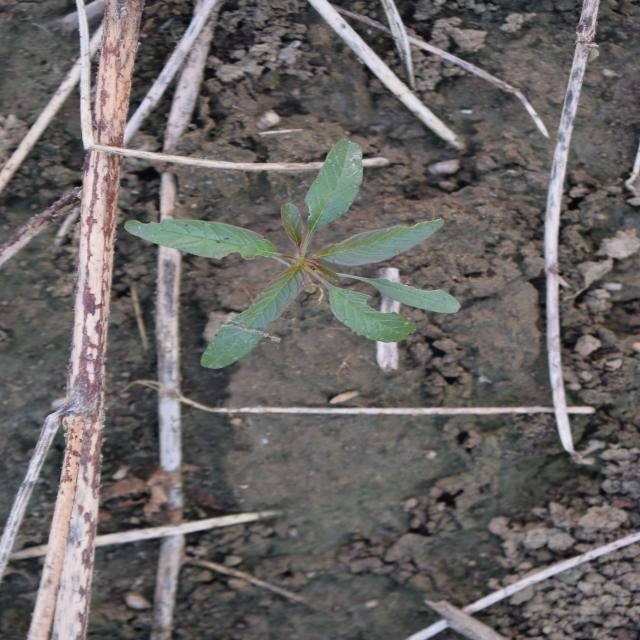Waterhemp: (122, 136, 464, 372)
